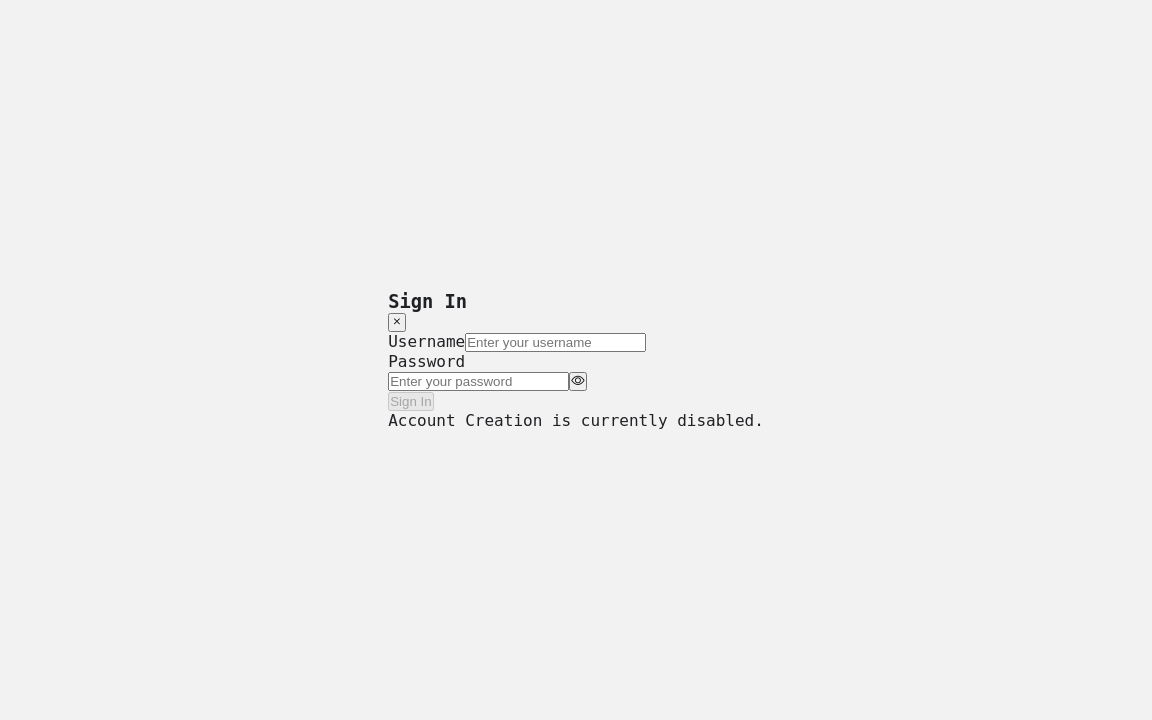
Test: SignInModal › shows an invalid-credentials message on a 401
This screenshot has width=1152, height=720.
Type "test" into the field labelled "Username".
click(556, 342); type("test")  # box [465, 332, 646, 352]
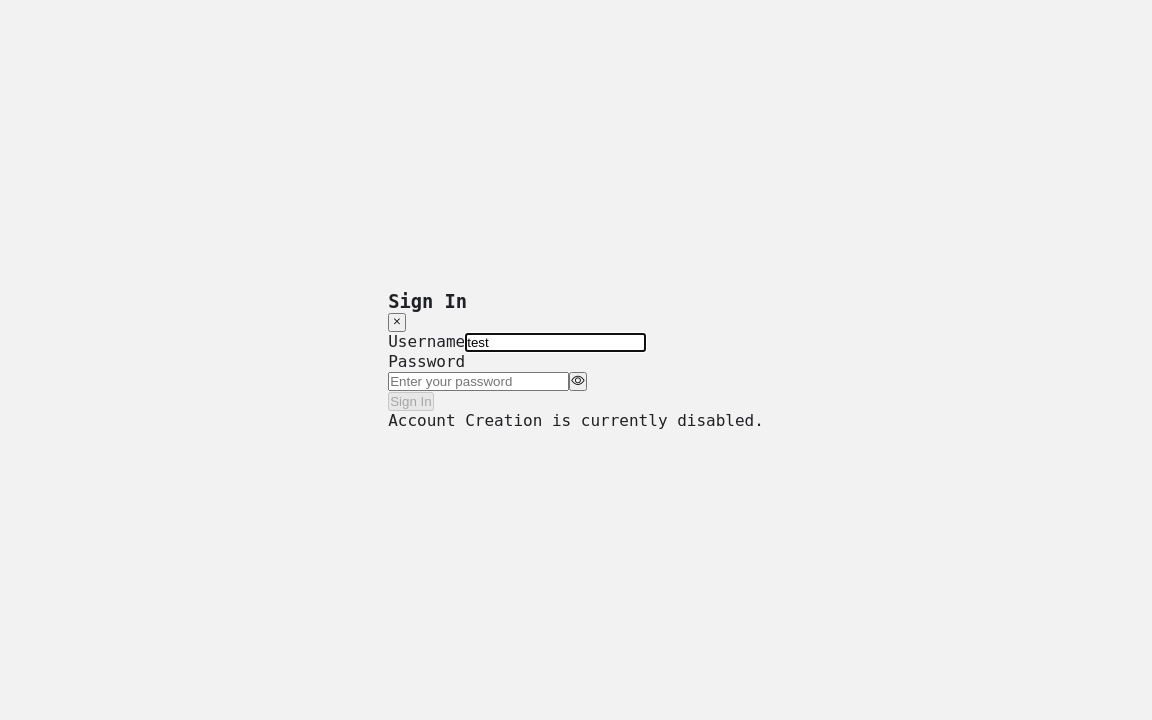
Type "secret" into the password field labelled "Password".
click(479, 381); type("secret")  # box [388, 372, 569, 390]
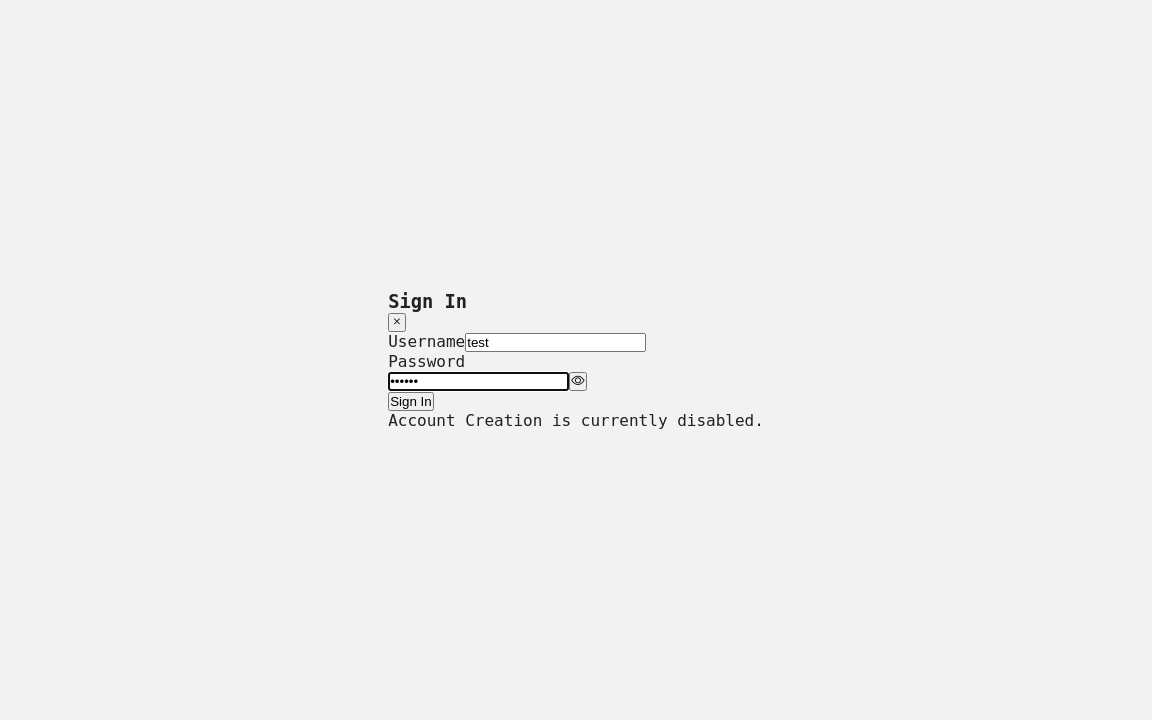
Click the button "Sign In".
click(411, 401)  # box [388, 392, 434, 410]
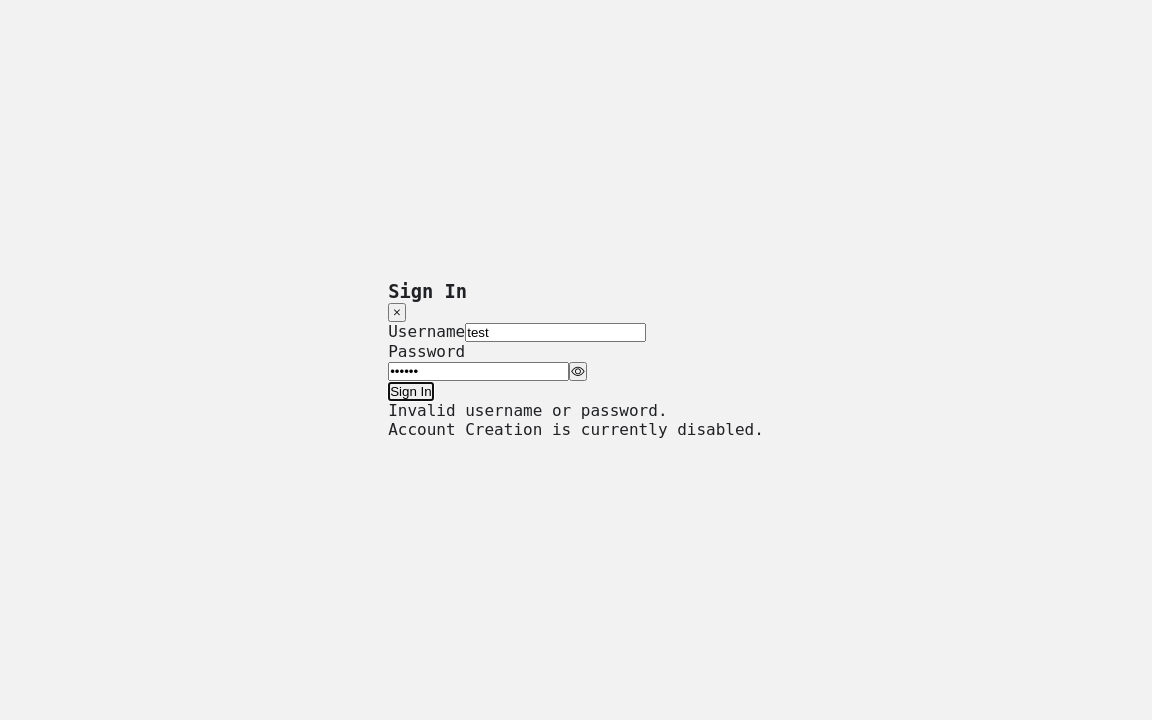
Expected: the message reads "Invalid username or password.", [388, 401, 668, 420]
